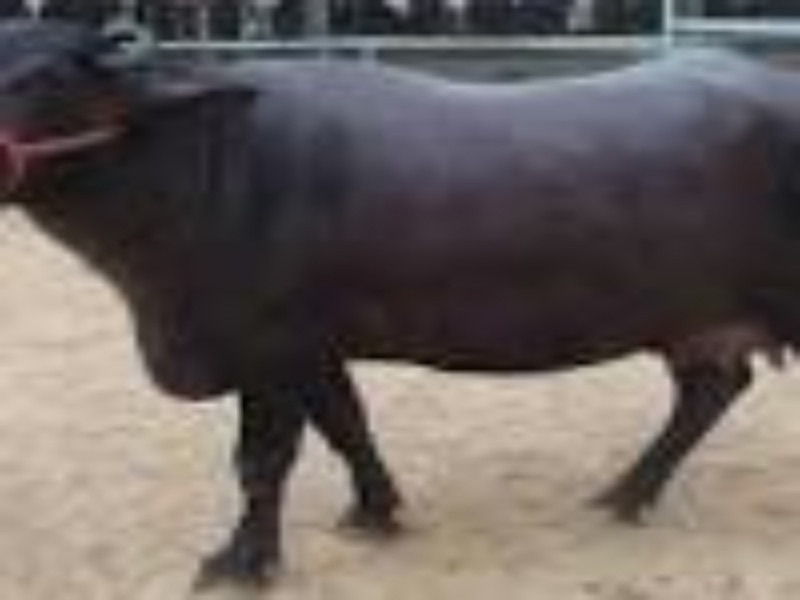buffalo: (5, 22, 795, 582)
